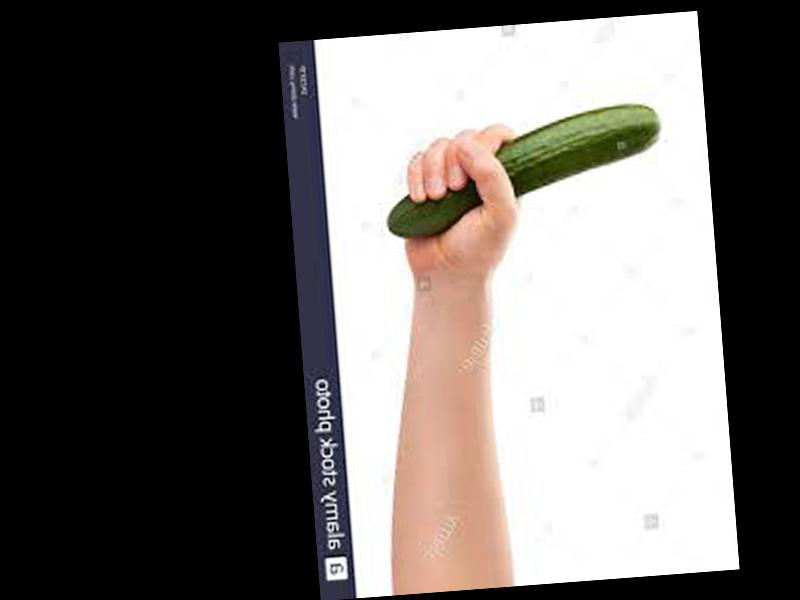Cucumber: (380, 100, 666, 237)
